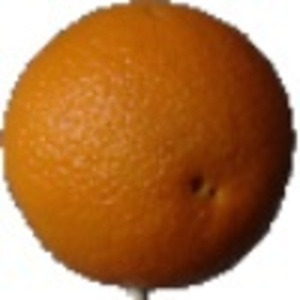laranja: (5, 2, 294, 298)
